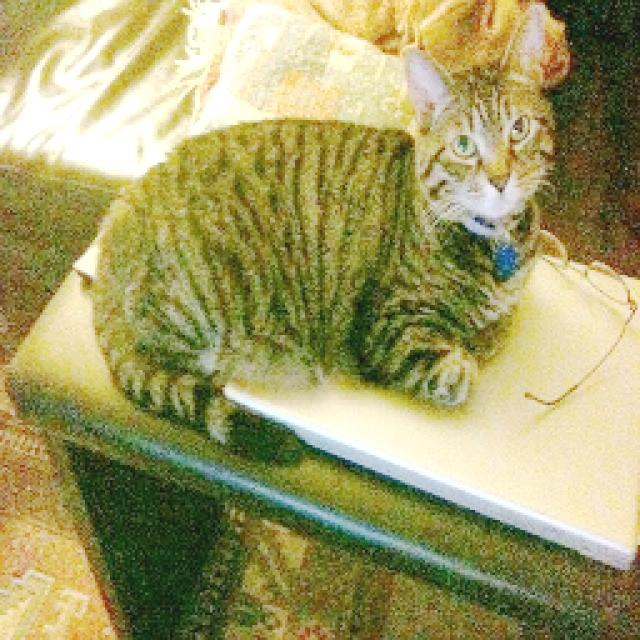cat: (88, 10, 554, 473)
